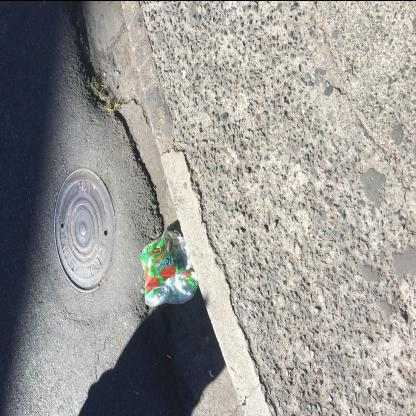plastik: (141, 229, 199, 307)
